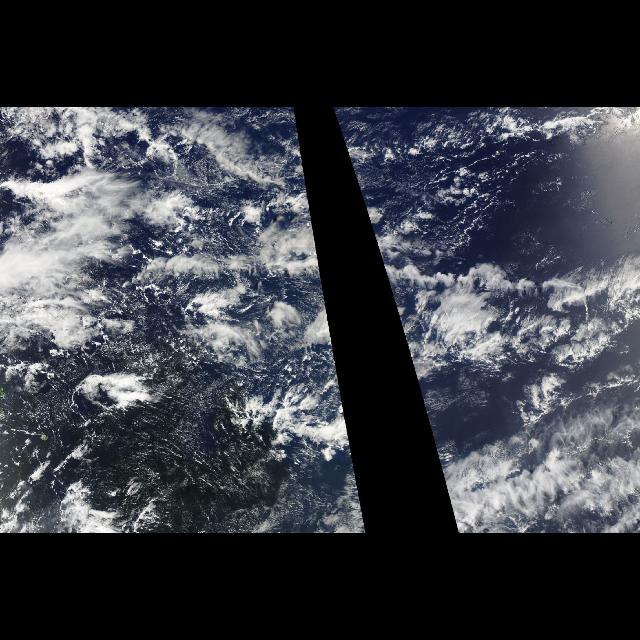Fish: (367, 216, 639, 388), (135, 216, 341, 388)
Sugar: (182, 160, 318, 520)
